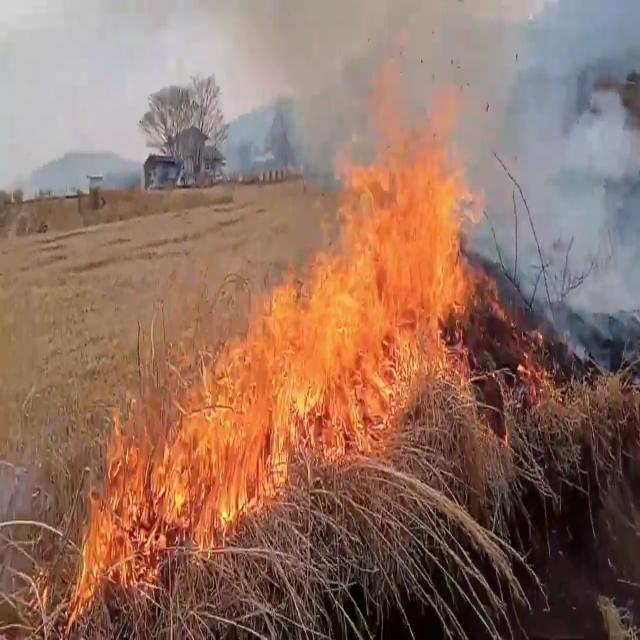Fire: (263, 84, 509, 481), (68, 294, 290, 610)
Smoke: (216, 0, 640, 273), (452, 0, 640, 333)
